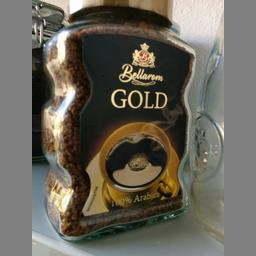coffee: (38, 0, 196, 243)
